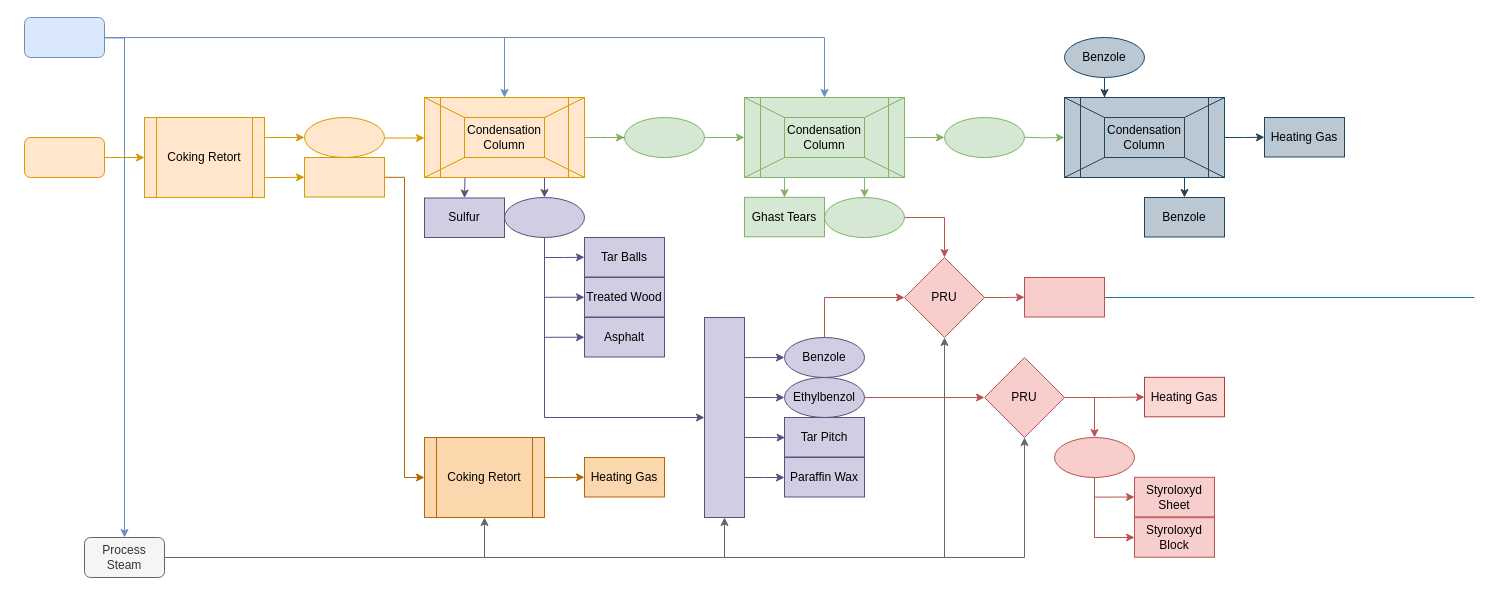
Some shapes in this 1500 by 595 pixel diagram are drawn without their labels. Here are the shapes that lost their labels. From the top down, the box of each, then its label:
(24, 16, 104, 58): Water
(24, 136, 104, 178): Coal
(304, 116, 384, 158): Retort Gas
(624, 116, 704, 158): Ammoniacal Gas
(944, 116, 1024, 158): Lighting Gas
(304, 156, 384, 197): Coal Coke
(504, 196, 584, 238): Coal Tar
(824, 196, 904, 238): Ammoniacal Liqour
(1024, 276, 1104, 317): Aniline
(704, 316, 744, 518): Steam Distillation Column
(1054, 436, 1134, 478): Raw Styroloxyd
